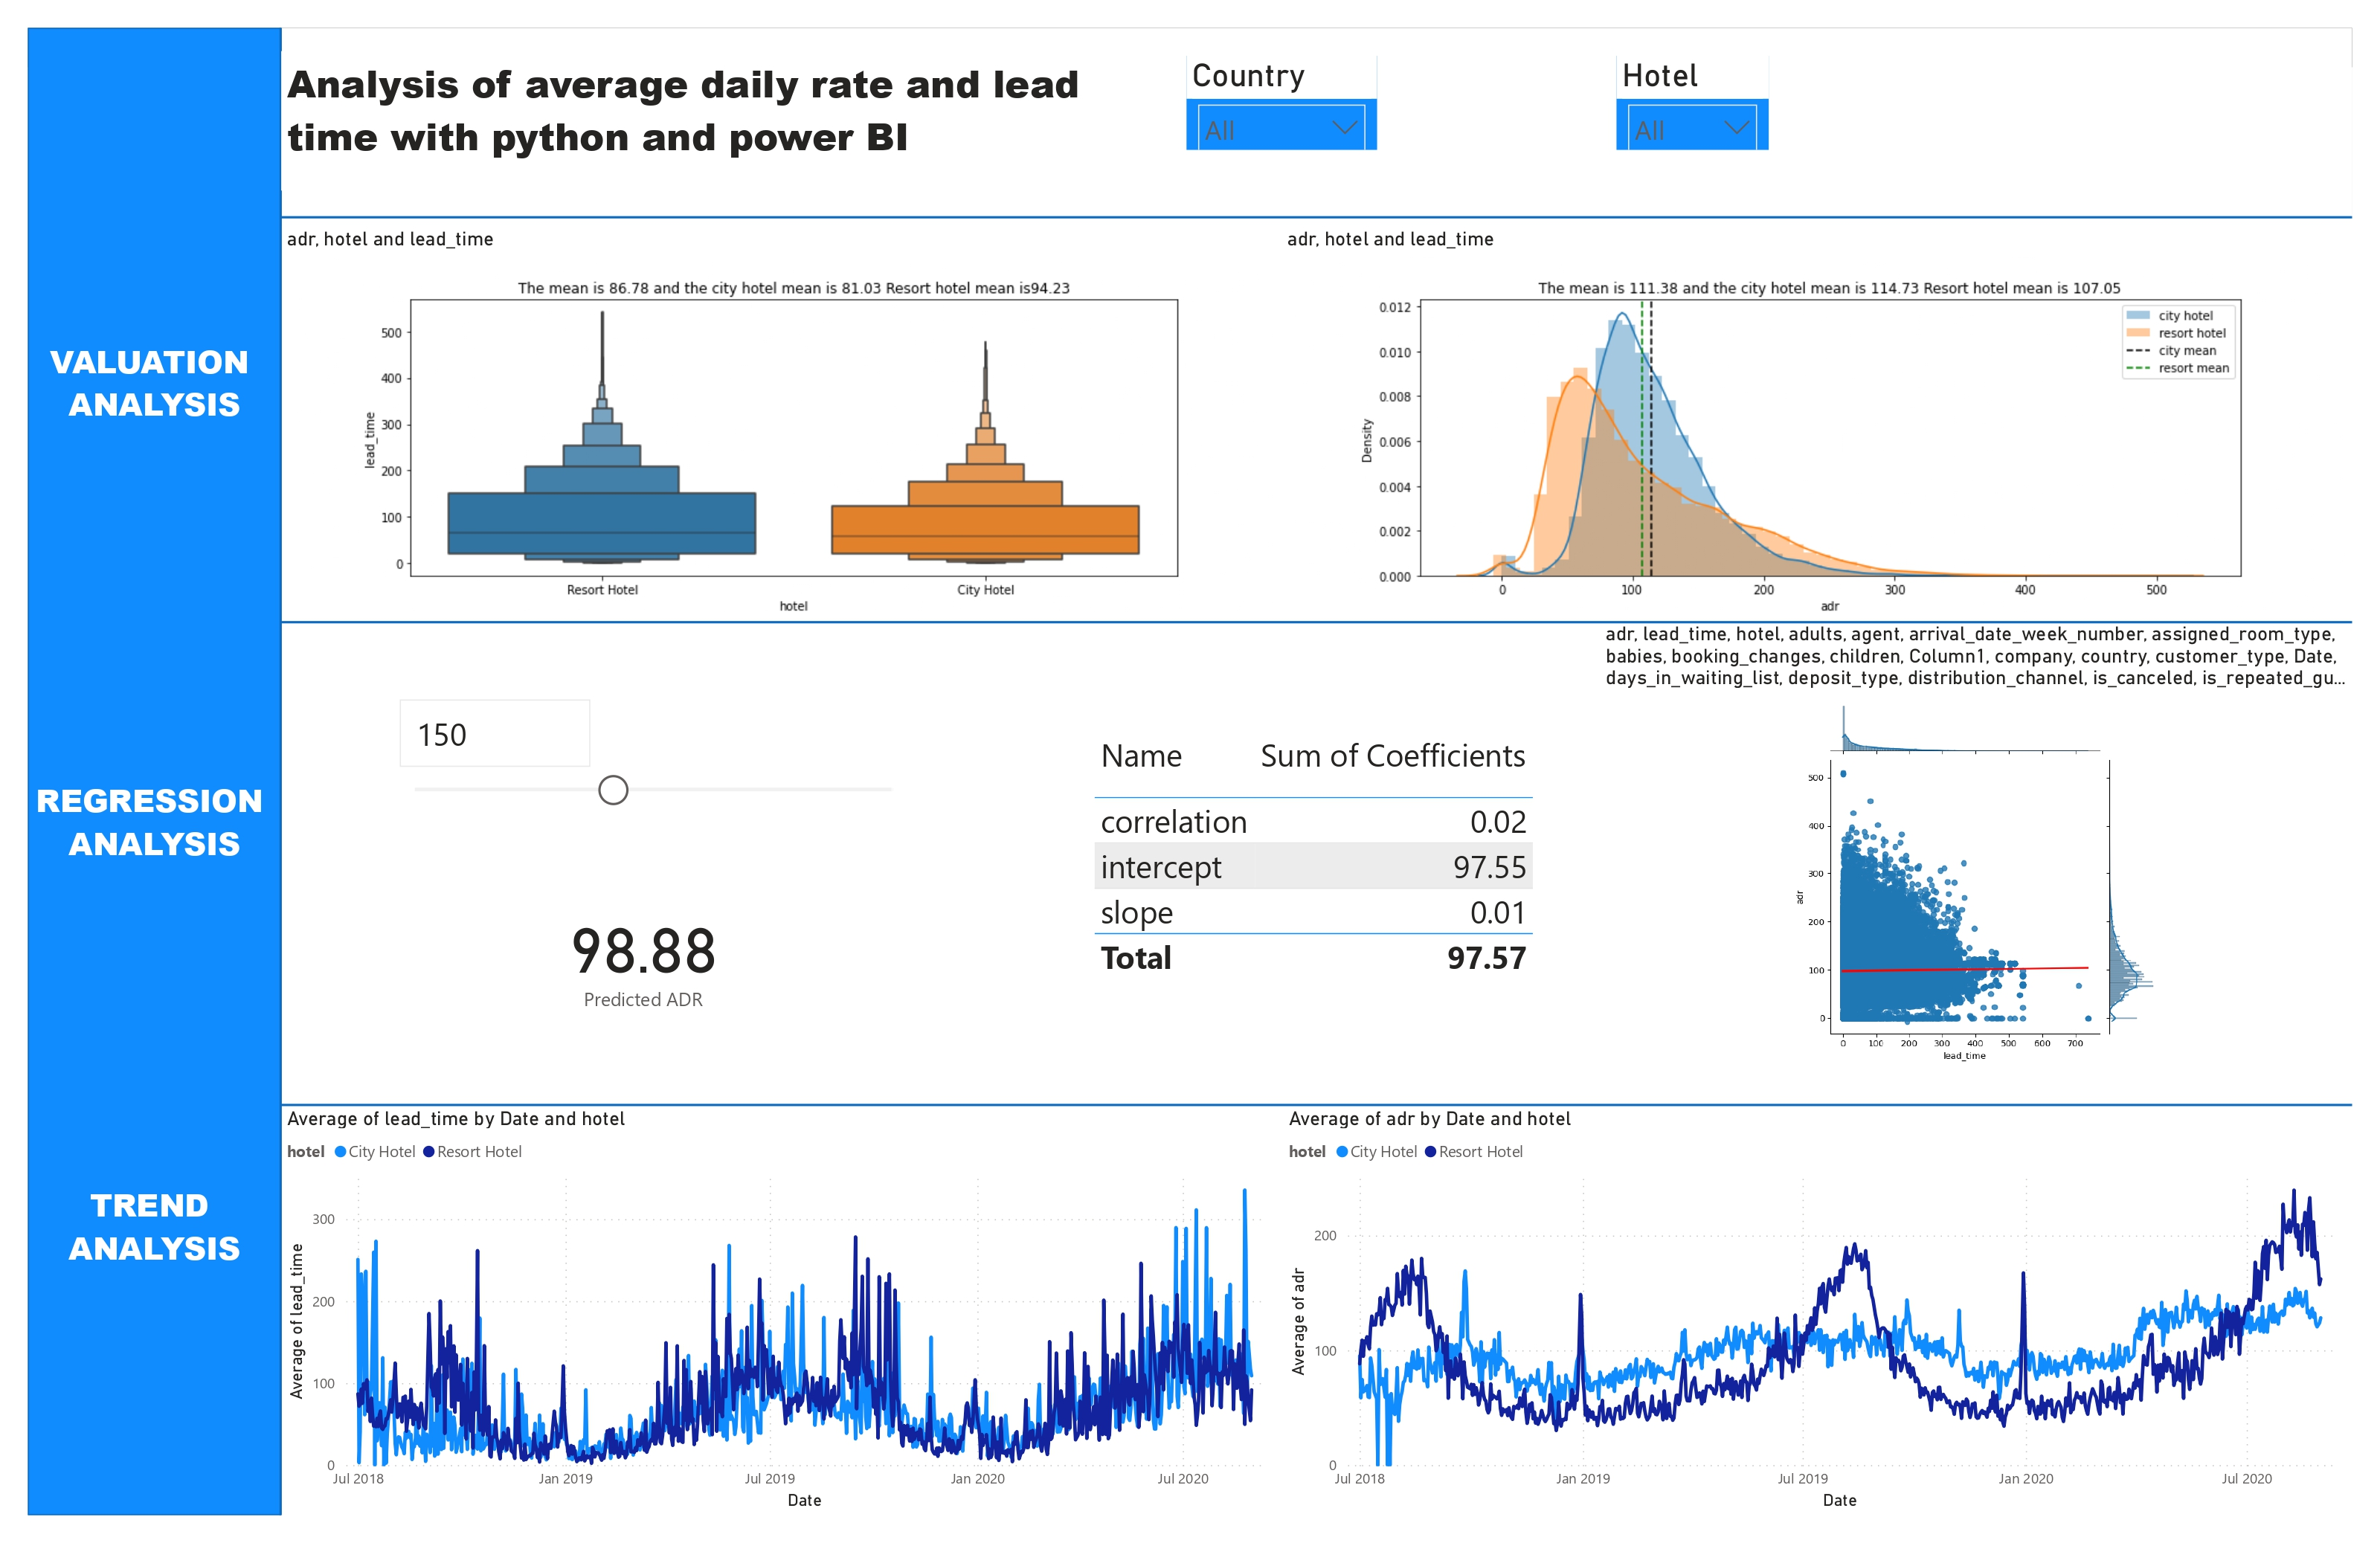

Layout of this report page (visuals, bound fields, positions):
{"tool":"powerbi","page":{"name":"Page 1","canvas":[2000,1280],"ordinal":0},"visuals":[{"type":"shape","box":[0,0,218.4,1280],"z":0},{"type":"lineChart","fields":{"Y":["Avg(filtered_data_Hotel_Dataset.adr)"],"Category":["Date_table.Date"],"Series":["filtered_data_Hotel_Dataset.hotel"]},"box":[1079.8,928.2,920.1,351.8],"z":1000},{"type":"lineChart","fields":{"Y":["Avg(filtered_data_Hotel_Dataset.lead_time)"],"Category":["Date_table.Date"],"Series":["filtered_data_Hotel_Dataset.hotel"]},"box":[218.4,928.2,861.4,351.8],"z":2000},{"type":"pythonVisual","fields":{"Values":["filtered_data_Hotel_Dataset.adr","filtered_data_Hotel_Dataset.hotel","filtered_data_Hotel_Dataset.lead_time"]},"box":[1079.1,171,921,339.8],"z":3000},{"type":"pythonVisual","fields":{"Values":["filtered_data_Hotel_Dataset.adr","filtered_data_Hotel_Dataset.hotel","filtered_data_Hotel_Dataset.lead_time"]},"box":[218,171,861.2,339.8],"z":4000},{"type":"pythonVisual","fields":{"Values":["filtered_data_Hotel_Dataset.adr","filtered_data_Hotel_Dataset.lead_time","filtered_data_Hotel_Dataset.hotel","filtered_data_Hotel_Dataset.adults","filtered_data_Hotel_Dataset.agent","filtered_data_Hotel_Dataset.arrival_date_week_number","filtered_data_Hotel_Dataset.assigned_room_type","filtered_data_Hotel_Dataset.babies","filtered_data_Hotel_Dataset.booking_changes","filtered_data_Hotel_Dataset.children","filtered_data_Hotel_Dataset.Column1","filtered_data_Hotel_Dataset.company"]},"box":[1352.7,510.7,647.5,391.1],"z":5000},{"type":"shape","box":[218.4,903.9,1781.5,46.5],"z":6000},{"type":"shape","box":[218.4,489.4,1781.5,44.5],"z":7000},{"type":"shape","box":[218.4,153.7,1781.5,18.2],"z":8000},{"type":"shape","box":[161.8,0,111.2,1280],"z":9000},{"type":"textbox","box":[0,262.9,218.4,117.3],"z":10000},{"type":"textbox","box":[0,641,218.4,117.3],"z":11000},{"type":"textbox","box":[0,988.8,218.4,117.3],"z":12000},{"type":"textbox","box":[218.4,20.2,778.5,119.3],"z":13000},{"type":"slicer","title":"Country","fields":{"Values":["filtered_data_Hotel_Dataset.country"]},"box":[996.9,24.3,163.8,80.9],"z":14000},{"type":"slicer","title":"Hotel","fields":{"Values":["filtered_data_Hotel_Dataset.hotel"]},"box":[1367,24.3,131.4,80.9],"z":15000},{"type":"slicer","title":"selected lead time","fields":{"Values":["Selected Lead Time.Selected Lead Time"]},"box":[307.4,568.2,459,137.5],"z":15001},{"type":"card","fields":{"Values":["correlation_table.Predicted ADR"]},"box":[293.2,728,473.2,139.5],"z":15002},{"type":"tableEx","fields":{"Values":["correlation_table.Name","Sum(correlation_table.Coefficients)"]},"box":[912,600.6,394.3,252.8],"z":15003}]}

Visuals, with their boxes in screenshot pixels (x1, y1, x2, y2):
shape: BBox(28, 28, 282, 1515)
lineChart - Avg(filtered_data_Hotel_Dataset.adr) x Date_table.Date: BBox(1283, 1106, 2352, 1515)
lineChart - Avg(filtered_data_Hotel_Dataset.lead_time) x Date_table.Date: BBox(282, 1106, 1283, 1515)
pythonVisual - filtered_data_Hotel_Dataset.adr x filtered_data_Hotel_Dataset.hotel: BBox(1282, 227, 2352, 622)
pythonVisual - filtered_data_Hotel_Dataset.adr x filtered_data_Hotel_Dataset.hotel: BBox(281, 227, 1282, 622)
pythonVisual - filtered_data_Hotel_Dataset.adr x filtered_data_Hotel_Dataset.lead_time: BBox(1600, 621, 2352, 1076)
shape: BBox(282, 1078, 2352, 1132)
shape: BBox(282, 596, 2352, 648)
shape: BBox(282, 207, 2352, 228)
shape: BBox(216, 28, 345, 1515)
textbox: BBox(28, 333, 282, 470)
textbox: BBox(28, 773, 282, 909)
textbox: BBox(28, 1176, 282, 1313)
textbox: BBox(282, 51, 1186, 190)
"Country" slicer: BBox(1186, 56, 1377, 150)
"Hotel" slicer: BBox(1616, 56, 1769, 150)
"selected lead time" slicer: BBox(385, 688, 919, 848)
card - correlation_table.Predicted ADR: BBox(369, 874, 919, 1036)
tableEx - correlation_table.Name x Sum(correlation_table.Coefficients): BBox(1087, 726, 1546, 1019)
